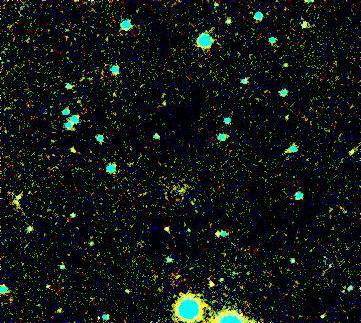star: (152, 215, 182, 245)
